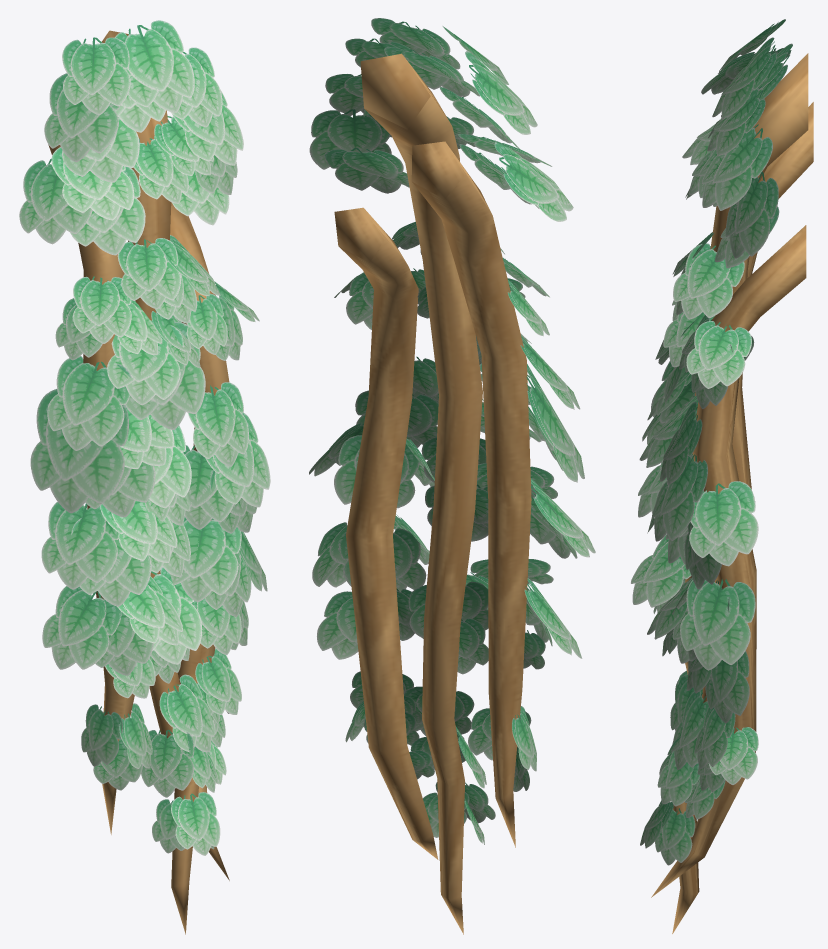
The model's file is SM_ENV_plant_ancient_11.fbx.
3 views of the same model, side by side, from view 1: azimuth 30°, elevation 25°; view 2: azimuth 150°, elevation 25°; view 3: azimuth 270°, elevation 25° (orthographic). The views are drawn at different scales.
Parts seen in each view (by area): view 1: SM_ENV_plant_ancient_11_LOD0; view 2: SM_ENV_plant_ancient_11_LOD0; view 3: SM_ENV_plant_ancient_11_LOD0.
Part boxes in pixels (box(x1,y1,x2,y2)): SM_ENV_plant_ancient_11_LOD0: box(19, 20, 270, 934); SM_ENV_plant_ancient_11_LOD0: box(309, 18, 595, 934); SM_ENV_plant_ancient_11_LOD0: box(631, 19, 813, 933).
Bounding box in the file's own units: 48.13 × 165 × 31.5.
